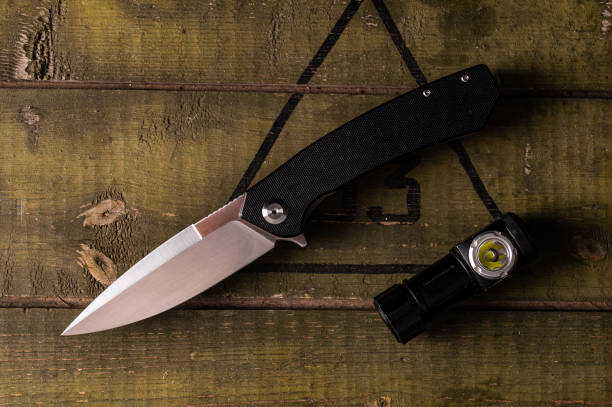knife: (59, 60, 503, 339)
